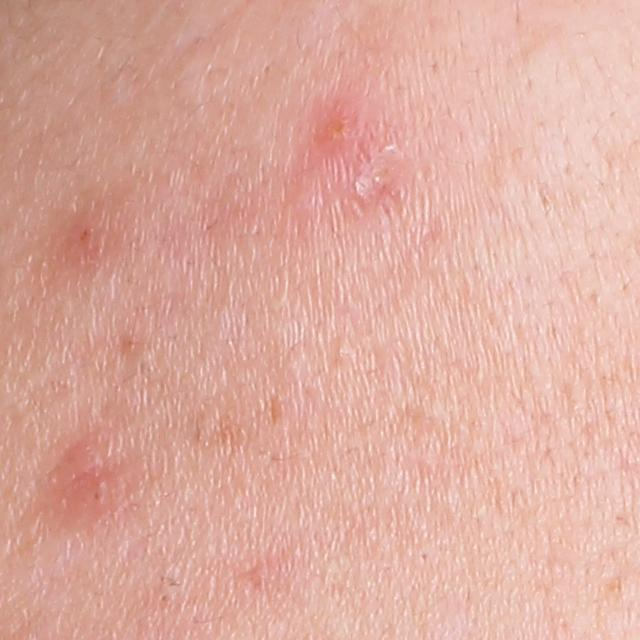comedo: (152, 588, 177, 608)
papule: (52, 441, 124, 516), (310, 99, 368, 156)
